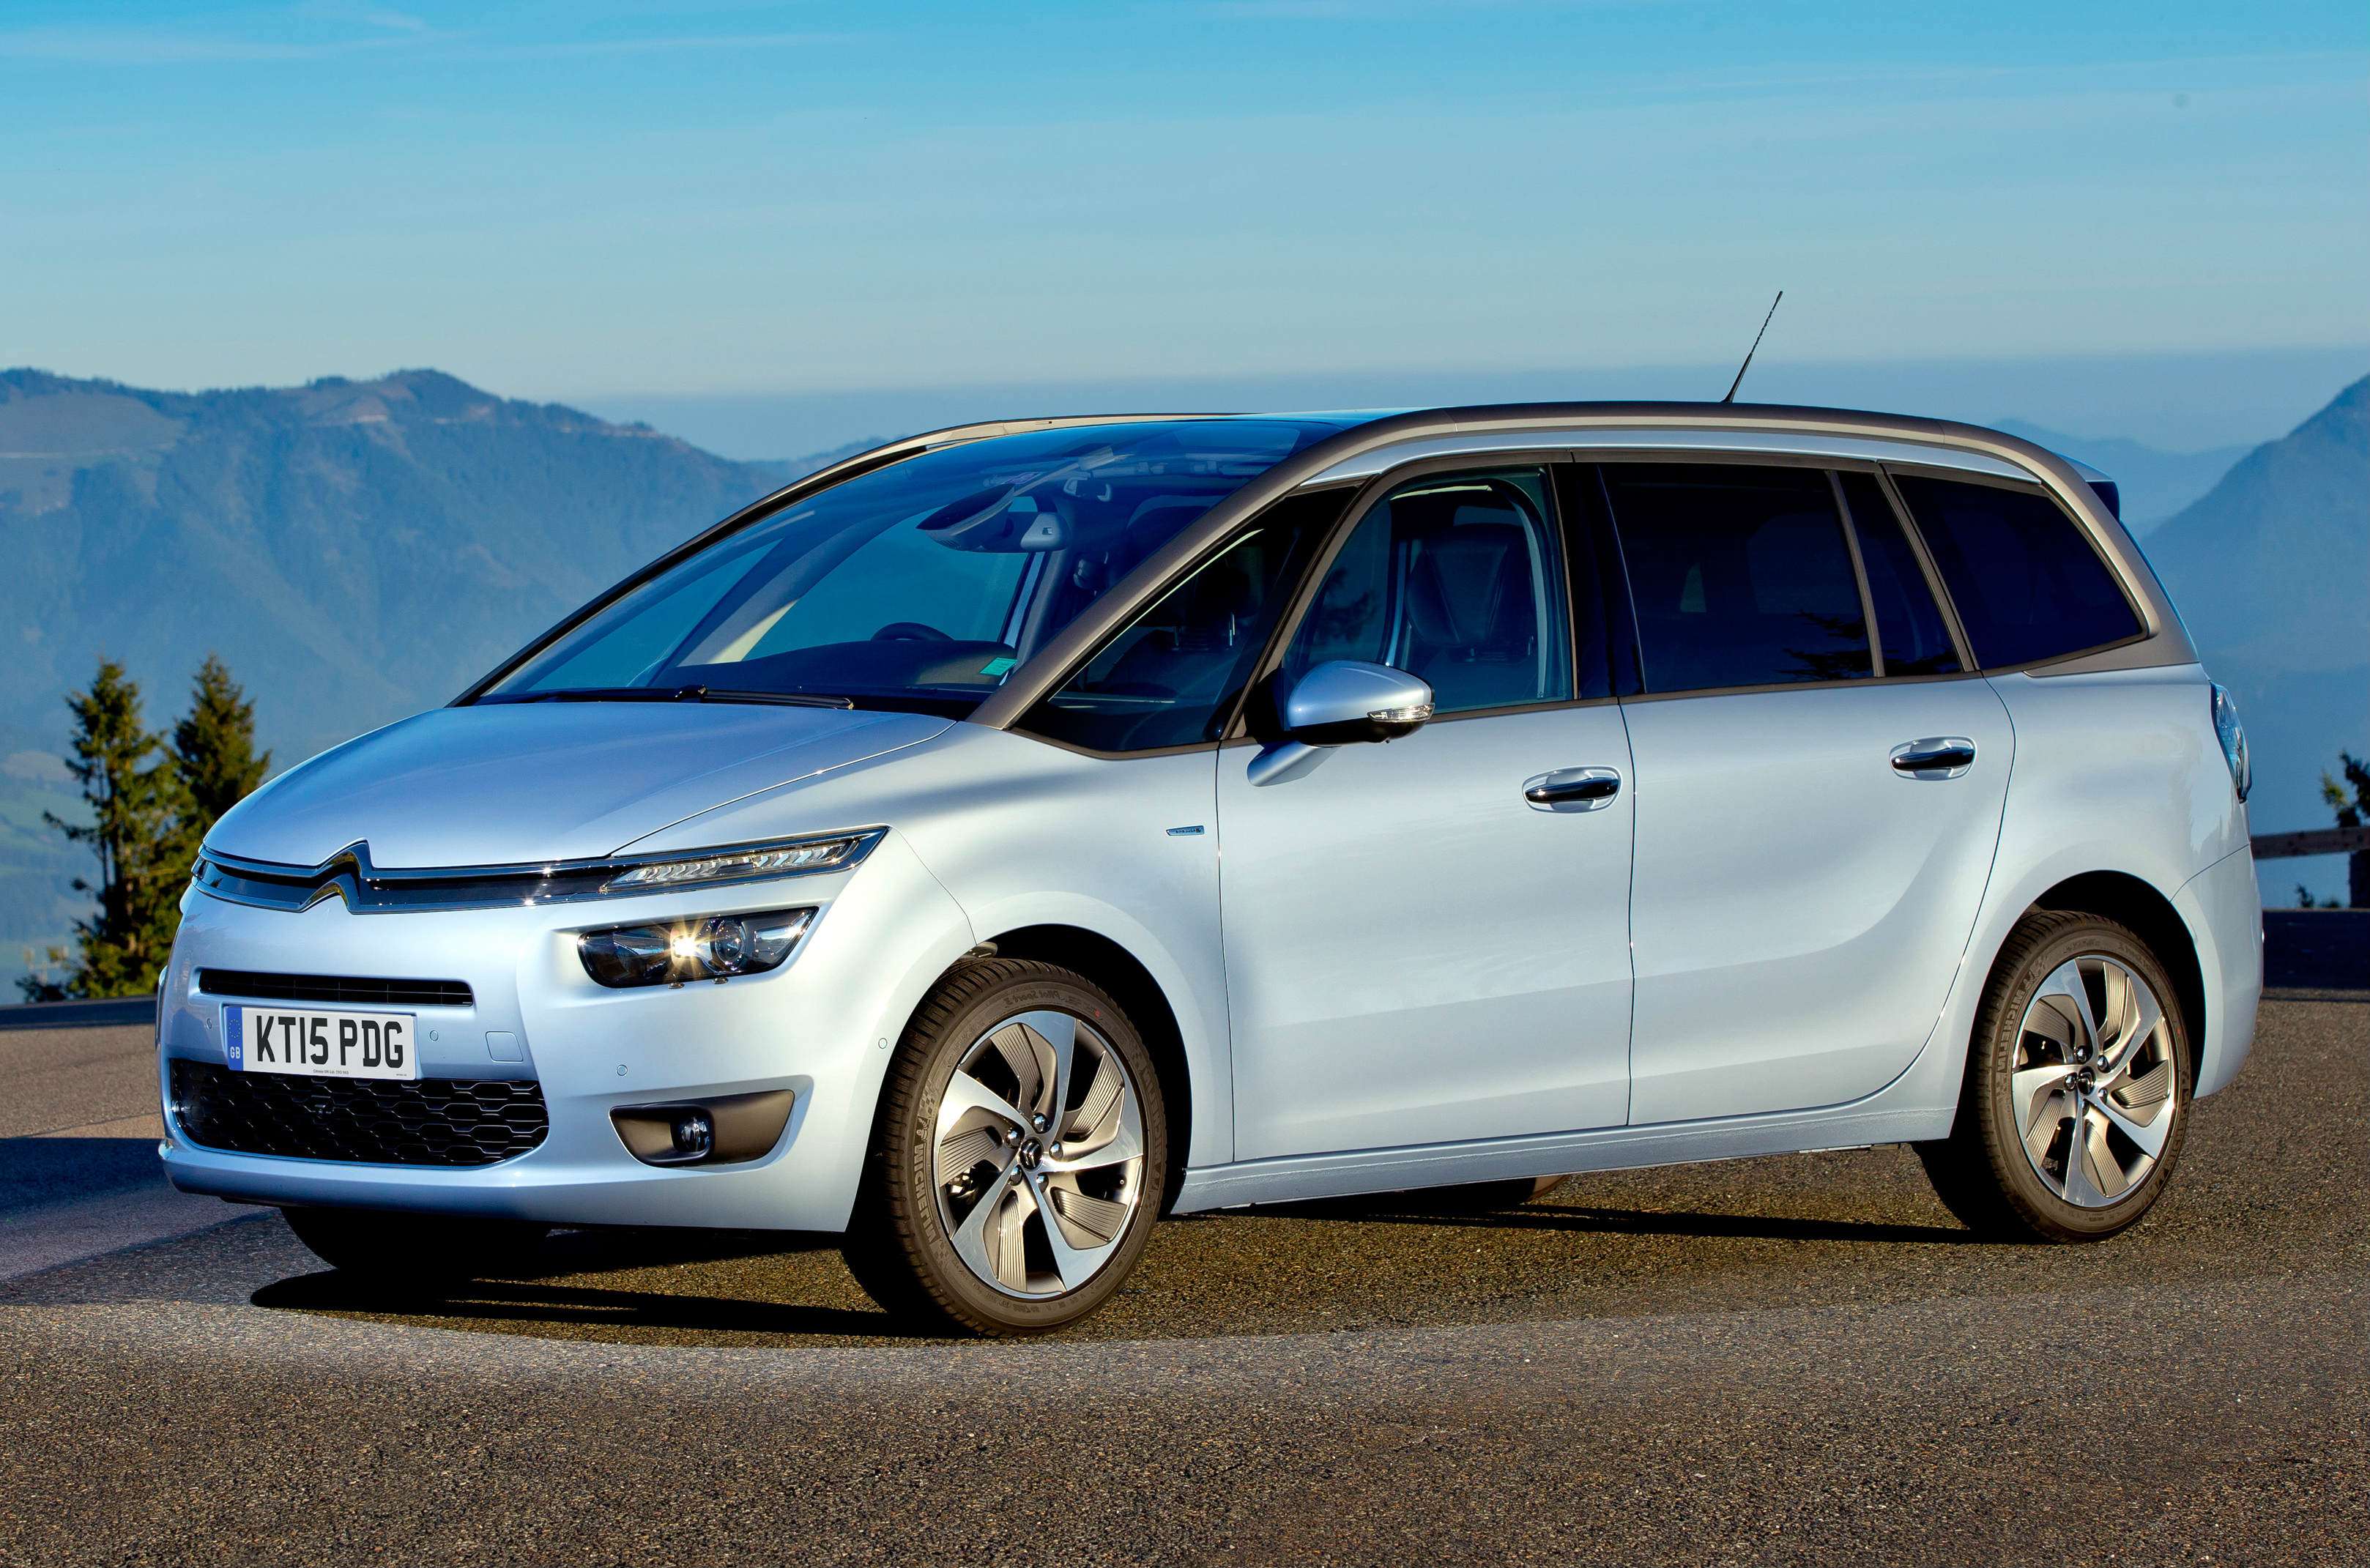car: (152, 401, 2267, 1340)
